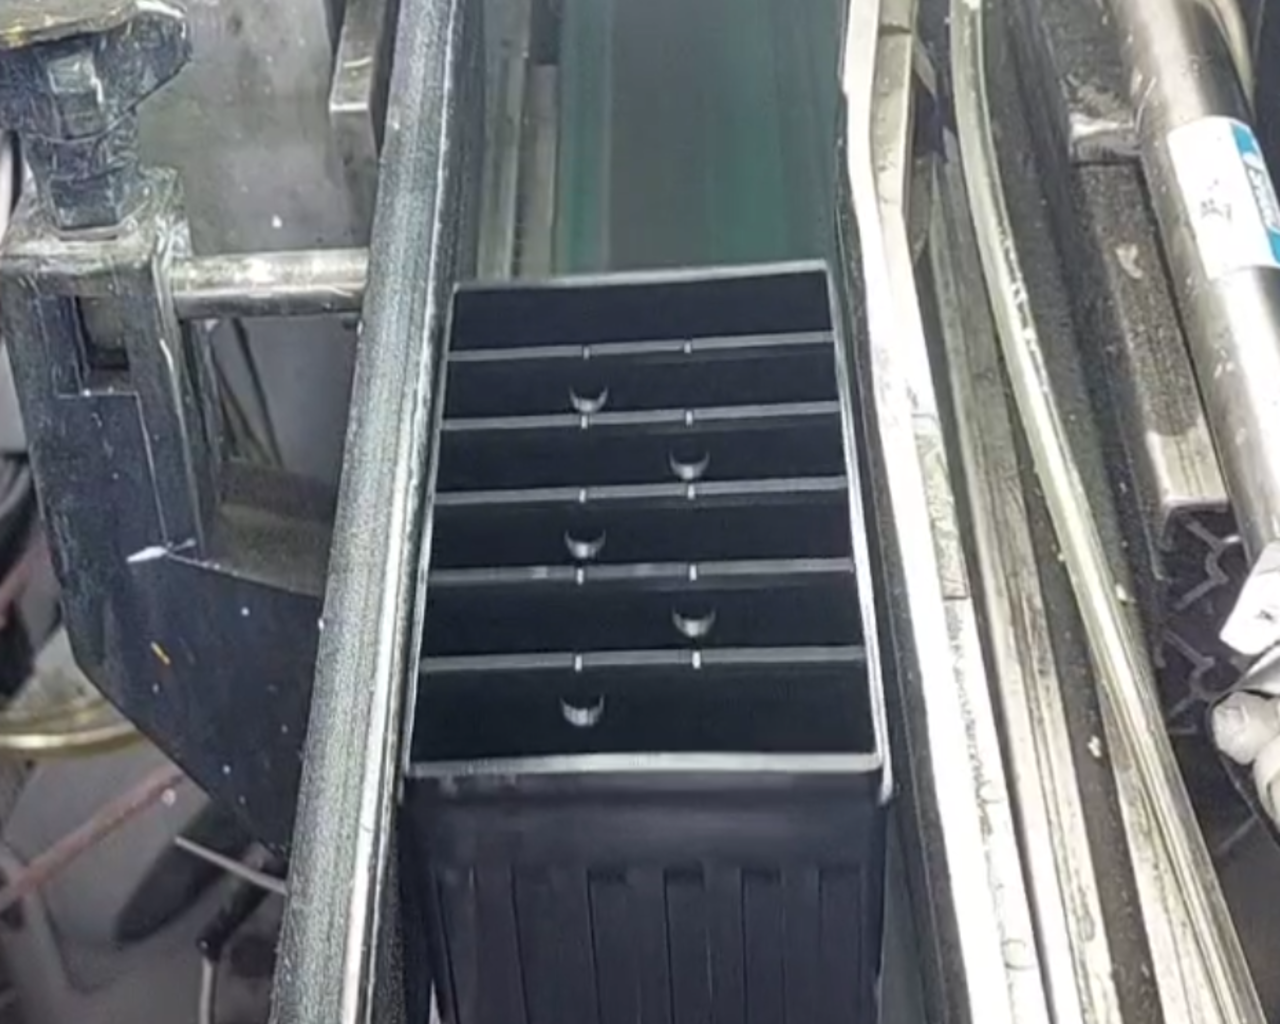box: (385, 247, 915, 819)
round: (546, 674, 619, 736), (657, 583, 729, 643), (550, 504, 618, 566), (656, 425, 721, 484), (560, 367, 616, 418)
